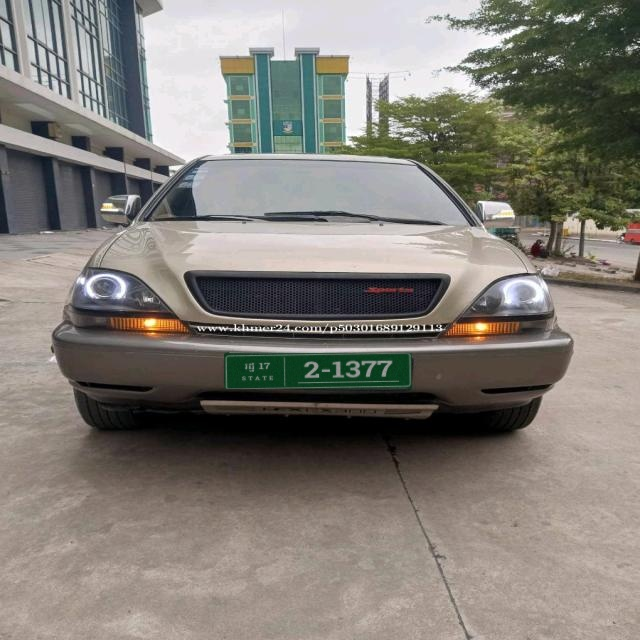Plate Number: (225, 354, 412, 389)
